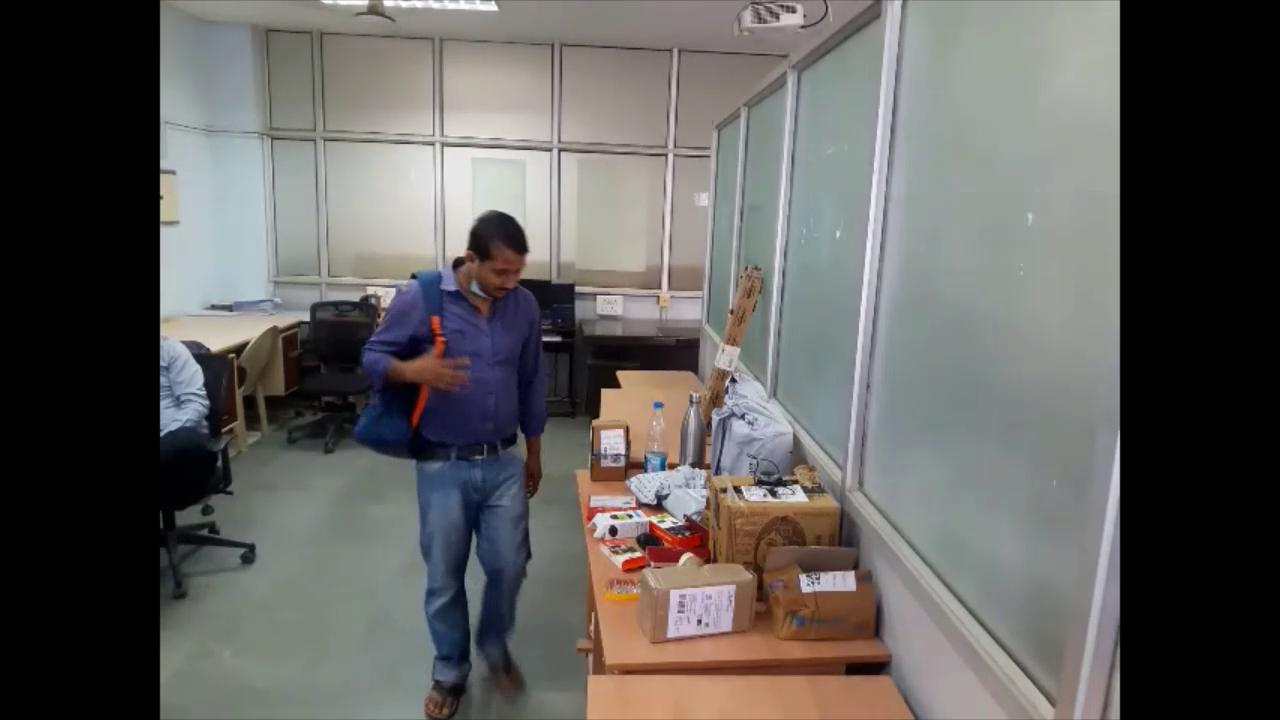Normal: (355, 202, 549, 720)
